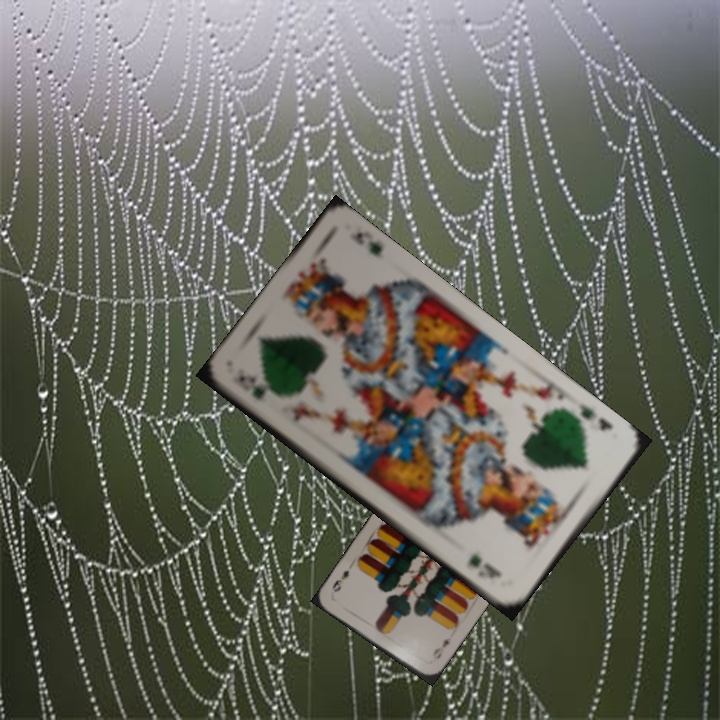E9: (428, 633, 454, 662)
GK: (574, 399, 615, 434), (234, 372, 268, 403)
